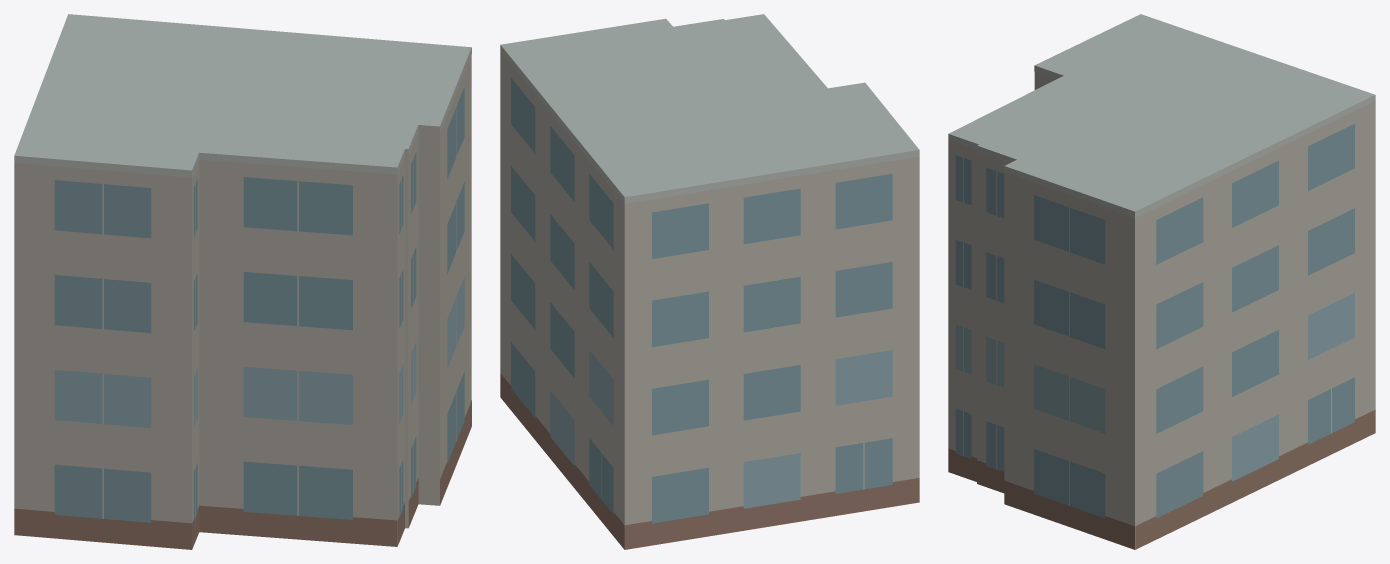
The model's file is survey-upis-32810831.glb.
3 renders of one model, left to right at view 1: azimuth 30°, elevation 25°; view 2: azimuth 150°, elevation 25°; view 3: azimuth 270°, elevation 25°, orthographic. The views are drawn at different scales.
Visible parts, largest first — view 1: survey-upis-32810831.tmp; view 2: survey-upis-32810831.tmp; view 3: survey-upis-32810831.tmp.
Part boxes in pixels (x1,y1,x2,y2): survey-upis-32810831.tmp: (14, 14, 471, 549); survey-upis-32810831.tmp: (500, 14, 919, 549); survey-upis-32810831.tmp: (948, 14, 1375, 549).
Bounding box in the file's own units: 16.5 × 13.16 × 15.07.
